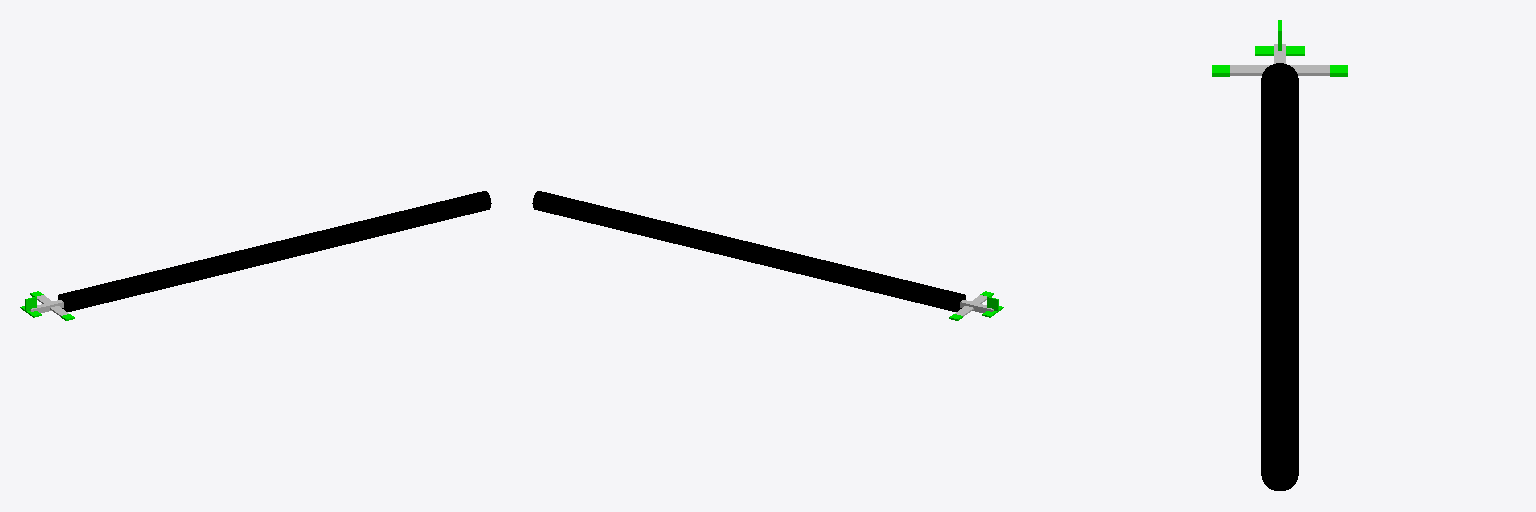
URDF robot description (acrowing):
<?xml version="1.0" ?>

<robot name="acrowing">

  <material name="clear">
    <color rgba="0.0 0.0 0.0 0.2"/>
  </material>
  <material name="green">
    <color rgba="0.0 1.0 0.0 1.0"/>
  </material>
  <material name="white">
    <color rgba="0.8 0.8 0.8 1.0"/>
  </material>
  <material name="black">
    <color rgba="0.2 0.2 0.2 1.0"/>
  </material>

  <link name="base_link">
    <inertial>
      <origin rpy="0 0 0" xyz="0 0 0"/>
      <mass value="0.3"/>
      <inertia ixx="0" ixy="0" ixz="0" iyy="0" iyz="0" izz="0"/>
    </inertial>
  </link>


  <link name="motor_link">
    <inertial>
      <origin rpy="0 0 0" xyz="0 0 0"/>
      <mass value="0"/>
      <inertia ixx="0" ixy="0" ixz="0" iyy="0" iyz="0" izz="0"/>
    </inertial>
  </link>
  <joint name="motor_joint" type="fixed">
    <origin rpy="0 0 0" xyz="0 0 0"/>
    <parent link="base_link"/>
    <child link="motor_link"/>
  </joint>


  <link name="horizontal_tail_link">
    <inertial>
      <origin rpy="0 0 0" xyz="0 0 0"/>
      <mass value="0.1"/>
      <inertia ixx="0" ixy="0" ixz="0" iyy="0" iyz="0" izz="0"/>
    </inertial>
    <collision>
      <origin rpy="0 0 0" xyz="0 0 0"/>
      <geometry>
        <box size="0.3 0.8 0.05"/>
      </geometry>
    </collision>
    <visual>
      <geometry>
        <box size="0.3 0.8 0.05"/>
      </geometry>
      <material name="green"/>
    </visual>
  </link>
  <joint name="horizontal_tail_joint" type="fixed">
    <origin rpy="0 0 0" xyz="-1.1 0 0"/>
    <parent link="base_link"/>
    <child link="horizontal_tail_link"/>
  </joint>


  <link name="vertical_tail_link">
    <inertial>
      <origin rpy="0 0 0" xyz="0 0 0"/>
      <mass value="0.05"/>
      <inertia ixx="0" ixy="0" ixz="0" iyy="0" iyz="0" izz="0"/>
    </inertial>
    <collision>
      <origin rpy="0 0 0" xyz="0 0 0"/>
      <geometry>
        <box size="0.4 0.05 0.5"/>
      </geometry>
    </collision>
    <visual>
      <geometry>
        <box size="0.4 0.05 0.4"/>
      </geometry>
      <material name="green"/>
    </visual>
  </link>
  <joint name="vertical_tail_joint" type="fixed">
    <origin rpy="0 0 0" xyz="-1.1 0 0.25"/>
    <parent link="base_link"/>
    <child link="vertical_tail_link"/>
  </joint>


  <link name="ail_left_link">
    <inertial>
      <origin rpy="0 0 0" xyz="0 0 0"/>
      <mass value="0.2"/>
      <inertia ixx="0" ixy="0" ixz="0" iyy="0" iyz="0" izz="0"/>
    </inertial>
    <collision>
      <origin rpy="0 0 0" xyz="0 0 0"/>
      <geometry>
        <box size="0.31 0.3 0.06"/>
      </geometry>
    </collision>
    <visual>
      <geometry>
        <box size="0.31 0.3 0.06"/>
      </geometry>
      <material name="green"/>
    </visual>
  </link>
  <joint name="ail_left_joint" type="fixed">
    <origin rpy="0 0 0" xyz="-0.35 0.95 0"/>
    <parent link="base_link"/>
    <child link="ail_left_link"/>
  </joint>


  <link name="ail_right_link">
    <inertial>
      <origin rpy="0 0 0" xyz="0 0 0"/>
      <mass value="0.2"/>
      <inertia ixx="0" ixy="0" ixz="0" iyy="0" iyz="0" izz="0"/>
    </inertial>
    <collision>
      <origin rpy="0 0 0" xyz="0 0 0"/>
      <geometry>
        <box size="0.31 0.3 0.06"/>
      </geometry>
    </collision>
    <visual>
      <geometry>
        <box size="0.31 0.3 0.06"/>
      </geometry>
      <material name="green"/>
    </visual>
  </link>
  <joint name="ail_right_joint" type="fixed">
    <origin rpy="0 0 0" xyz="-0.35 -0.95  0"/>
    <parent link="base_link"/>
    <child link="ail_right_link"/>
  </joint>


  <link name="main_wing_link">
    <inertial>
      <origin rpy="0 0 0" xyz="0 0 0"/>
      <mass value="0.5"/>
      <inertia ixx="0" ixy="0" ixz="0" iyy="0" iyz="0" izz="0"/>
    </inertial>
    <collision>
      <origin rpy="0 0 0" xyz="0 0 0"/>
      <geometry>
        <box size="0.3 1.8 0.05"/>
      </geometry>
    </collision>
    <visual>
      <geometry>
        <box size="0.3 1.8 0.05"/>
      </geometry>
      <material name="white"/>
    </visual>
  </link>
  <joint name="main_wing_joint" type="fixed">
    <origin rpy="0 0 0" xyz="-0.35 0 0"/>
    <parent link="base_link"/>
    <child link="main_wing_link"/>
  </joint>


  <link name="fuselage_link">
    <inertial>
      <origin rpy="0 0 0" xyz="0 0 0"/>
      <mass value="1"/>
      <inertia ixx="0" ixy="0" ixz="0" iyy="0" iyz="0" izz="0"/>
    </inertial>
    <collision>
      <origin rpy="0 0 0" xyz="0 0 0"/>
      <geometry>
        <box size="1.4 0.2 0.2"/>
      </geometry>
    </collision>
    <visual>
      <geometry>
        <box size="1.4 0.2 0.2"/>
      </geometry>
      <material name="white"/>
    </visual>
  </link>
  <joint name="fuselage_joint" type="fixed">
    <origin rpy="0 0 0" xyz="-0.45 0 0"/>
    <parent link="base_link"/>
    <child link="fuselage_link"/>
  </joint>

  <link name="gunsight_link">
    <inertial>
      <origin rpy="0 0 0" xyz="0 0 0"/>
      <mass value="0"/>
      <inertia ixx="0" ixy="0" ixz="0" iyy="0" iyz="0" izz="0"/>
    </inertial>
    <visual>
      <geometry>
        <cylinder radius="0.3" length="15.0"/>
      </geometry>
      <material name="clear"/>
    </visual>
  </link>
  <joint name="gunsight_joint" type="fixed">
    <origin rpy="0 1.571 0" xyz="7.5 0 0"/>
    <parent link="base_link"/>
    <child link="gunsight_link"/>
  </joint>
</robot>

--- Facts derived from the render (not from the file) ---
The picture shows the robot from 3 angles, left to right: view 1: azimuth 30°, elevation 25°; view 2: azimuth 150°, elevation 25°; view 3: azimuth 270°, elevation 25°; orthographic projection.
Robot: acrowing — 9 links, 8 joints (8 fixed); root link base_link; default pose: all joints at 0.
Visible links, largest first — view 1: gunsight_link; view 2: gunsight_link; view 3: gunsight_link, main_wing_link.
Boxes of the visible links, x1,y1,x2,y2 form: gunsight_link: [58, 191, 491, 311]; gunsight_link: [532, 191, 965, 311]; gunsight_link: [1261, 63, 1298, 490]; main_wing_link: [1230, 65, 1329, 75].
Bounding box of the posed robot: 16.3 × 2.2 × 0.7515 m (x, y, z).
Geometry: primitives only (box / cylinder / sphere), no mesh files.
